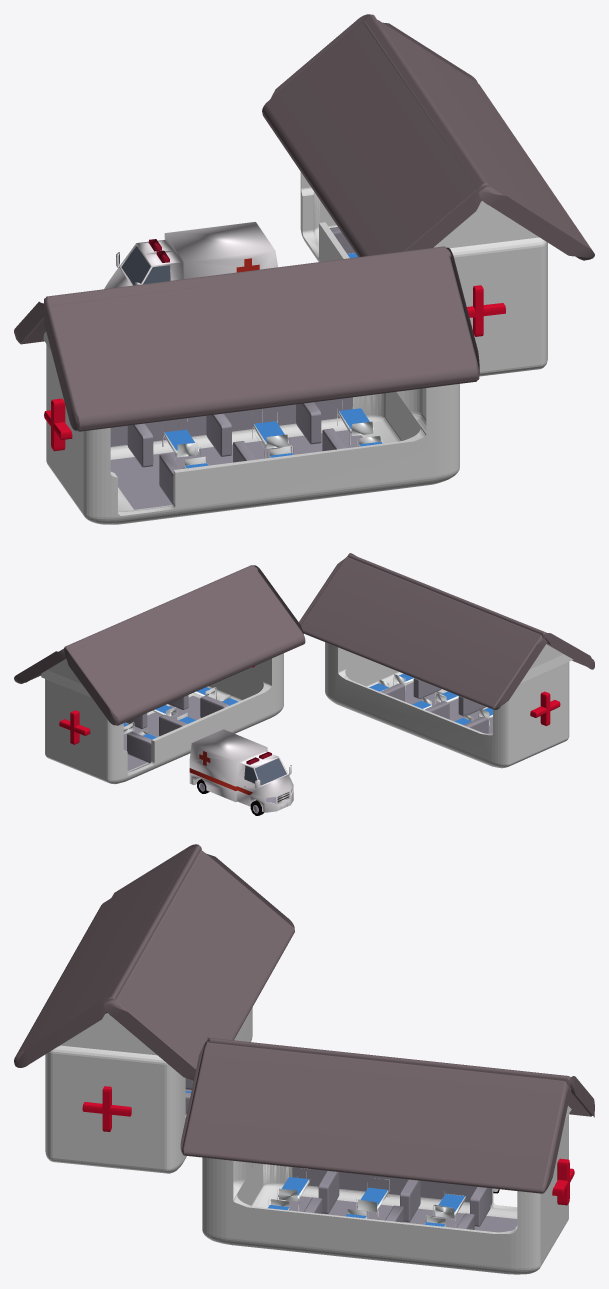
Rendered from Hosptialambulance.glb.
3 views of the same model, one above another, from view 1: azimuth 30°, elevation 25°; view 2: azimuth 150°, elevation 25°; view 3: azimuth 270°, elevation 25° (orthographic). The views are drawn at different scales.
Parts seen in each view (by area): view 1: Hospital, Cube.832; view 2: Hospital, Cube.832; view 3: Hospital.
Boxes of the visible parts, bbox=[...] form: Hospital: bbox=[14, 14, 594, 524]; Cube.832: bbox=[104, 222, 277, 289]; Hospital: bbox=[14, 553, 594, 784]; Cube.832: bbox=[189, 729, 293, 815]; Hospital: bbox=[14, 844, 594, 1274].
Size of the model in its own units: 200 by 63.16 by 174.
Materials: 2 (2 with a texture image).
